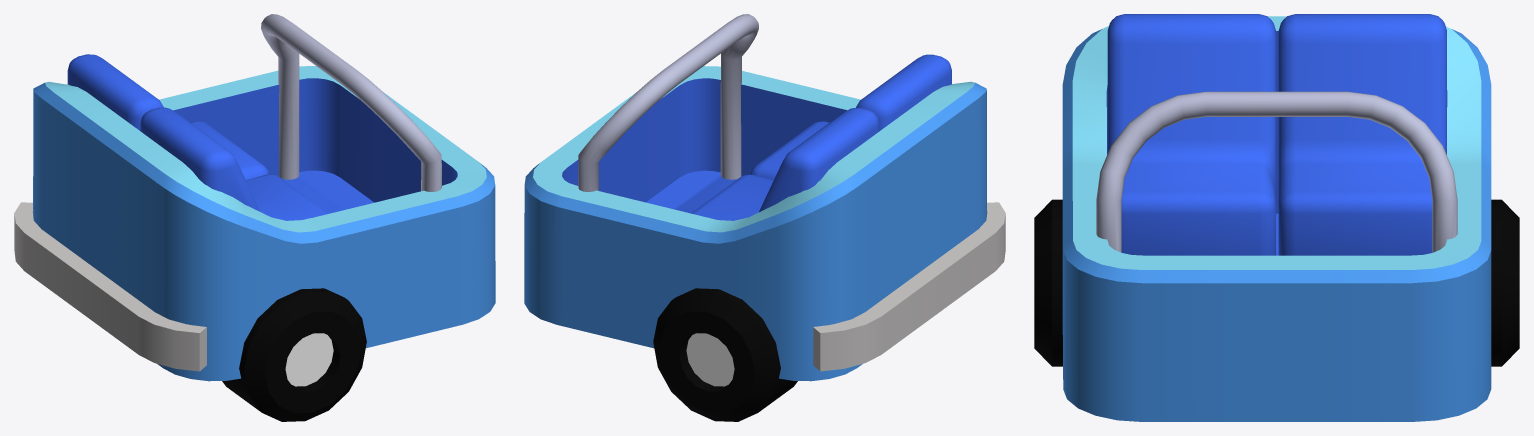
File: Cart_Expend.fbx
3 views of the same model, side by side, from view 1: azimuth 30°, elevation 25°; view 2: azimuth 150°, elevation 25°; view 3: azimuth 270°, elevation 25° (orthographic). The views are drawn at different scales.
Visible parts, largest first — view 1: Cart_Expend; view 2: Cart_Expend; view 3: Cart_Expend.
Part boxes in pixels (x1=…): Cart_Expend: x1=14, y1=14, x2=495, y2=421; Cart_Expend: x1=524, y1=14, x2=1005, y2=421; Cart_Expend: x1=1034, y1=14, x2=1519, y2=421.
Bounding box in the file's own units: 273 × 210 × 281.
